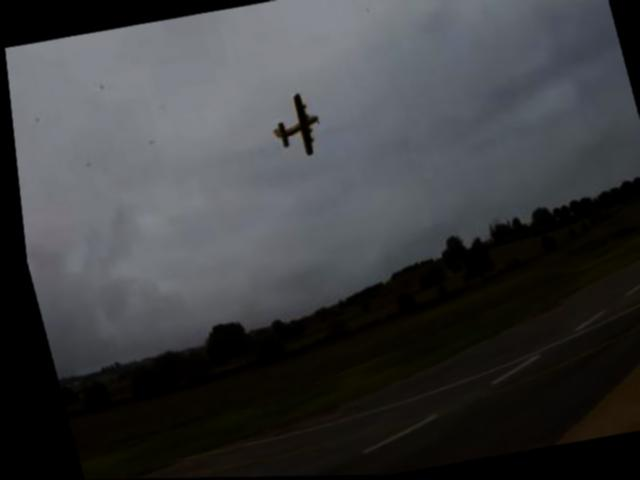uav: (259, 86, 330, 168)
